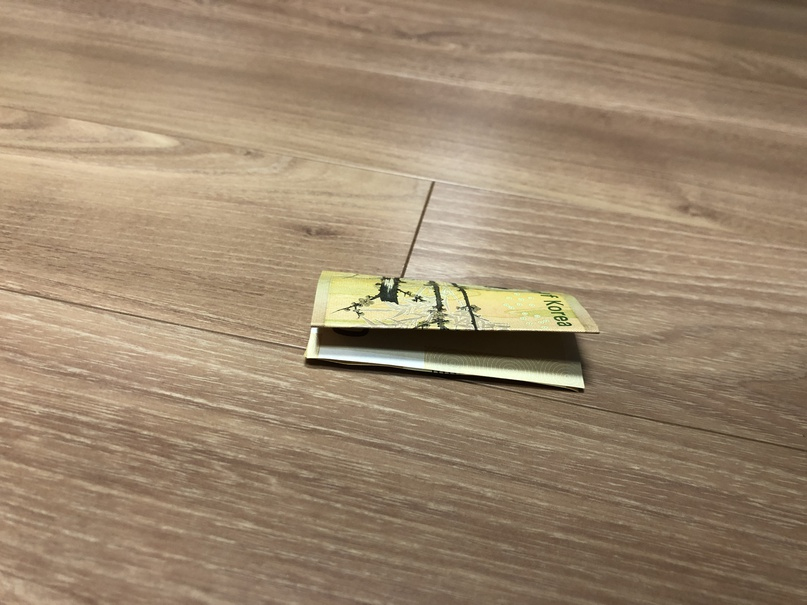50000won: (303, 271, 600, 393)
